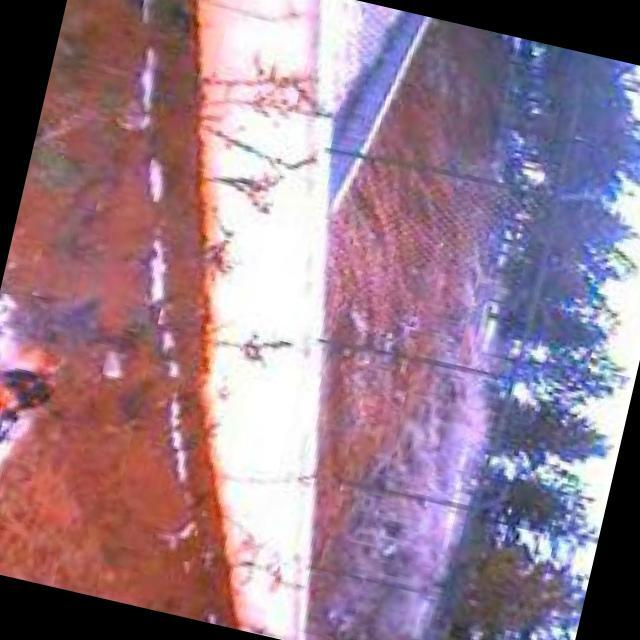Fire: (1, 329, 75, 471)
